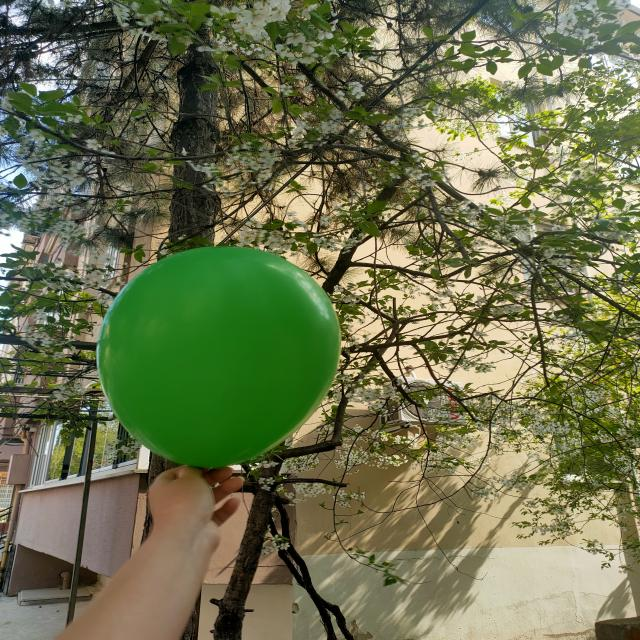green: (99, 247, 335, 471)
